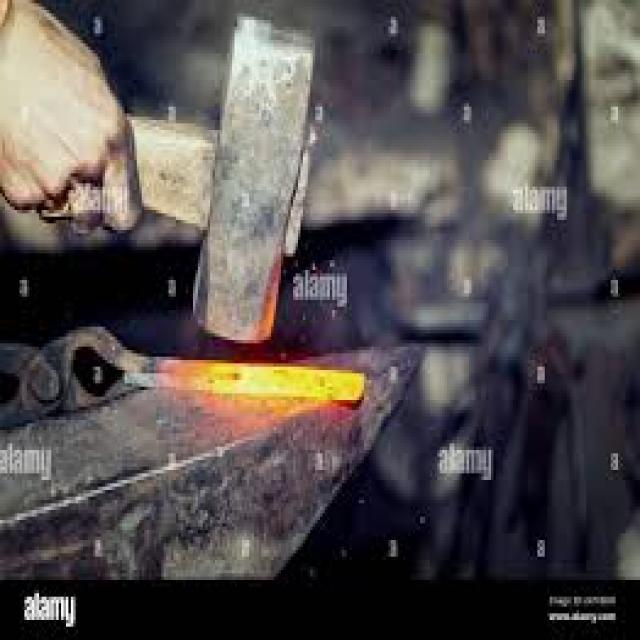hammer: (51, 5, 330, 355)
